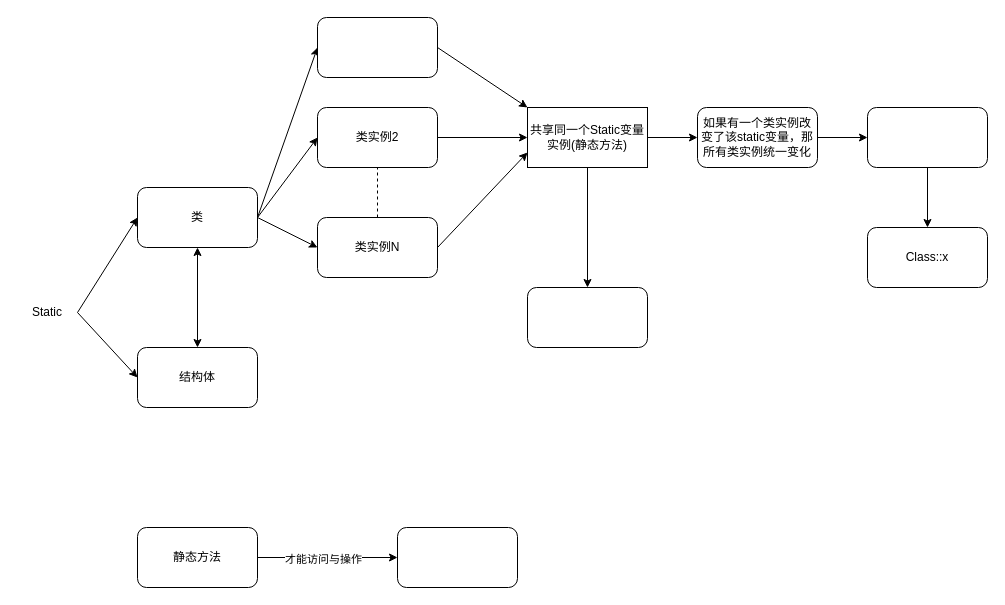
The diagram is 1005 pixels wide and 605 high, and some of its shapes have lost their labels. The centre of each missing label's shape, as x and y in pixels:
"所有类实例共享信息，比全局变量或全局函数方式更好" belongs at point (587, 317).
"类实例1" belongs at point (377, 47).
"那么类实例引用变量没有意义" belongs at point (927, 137).
"静态成员变量(静态数据)" belongs at point (457, 557).
